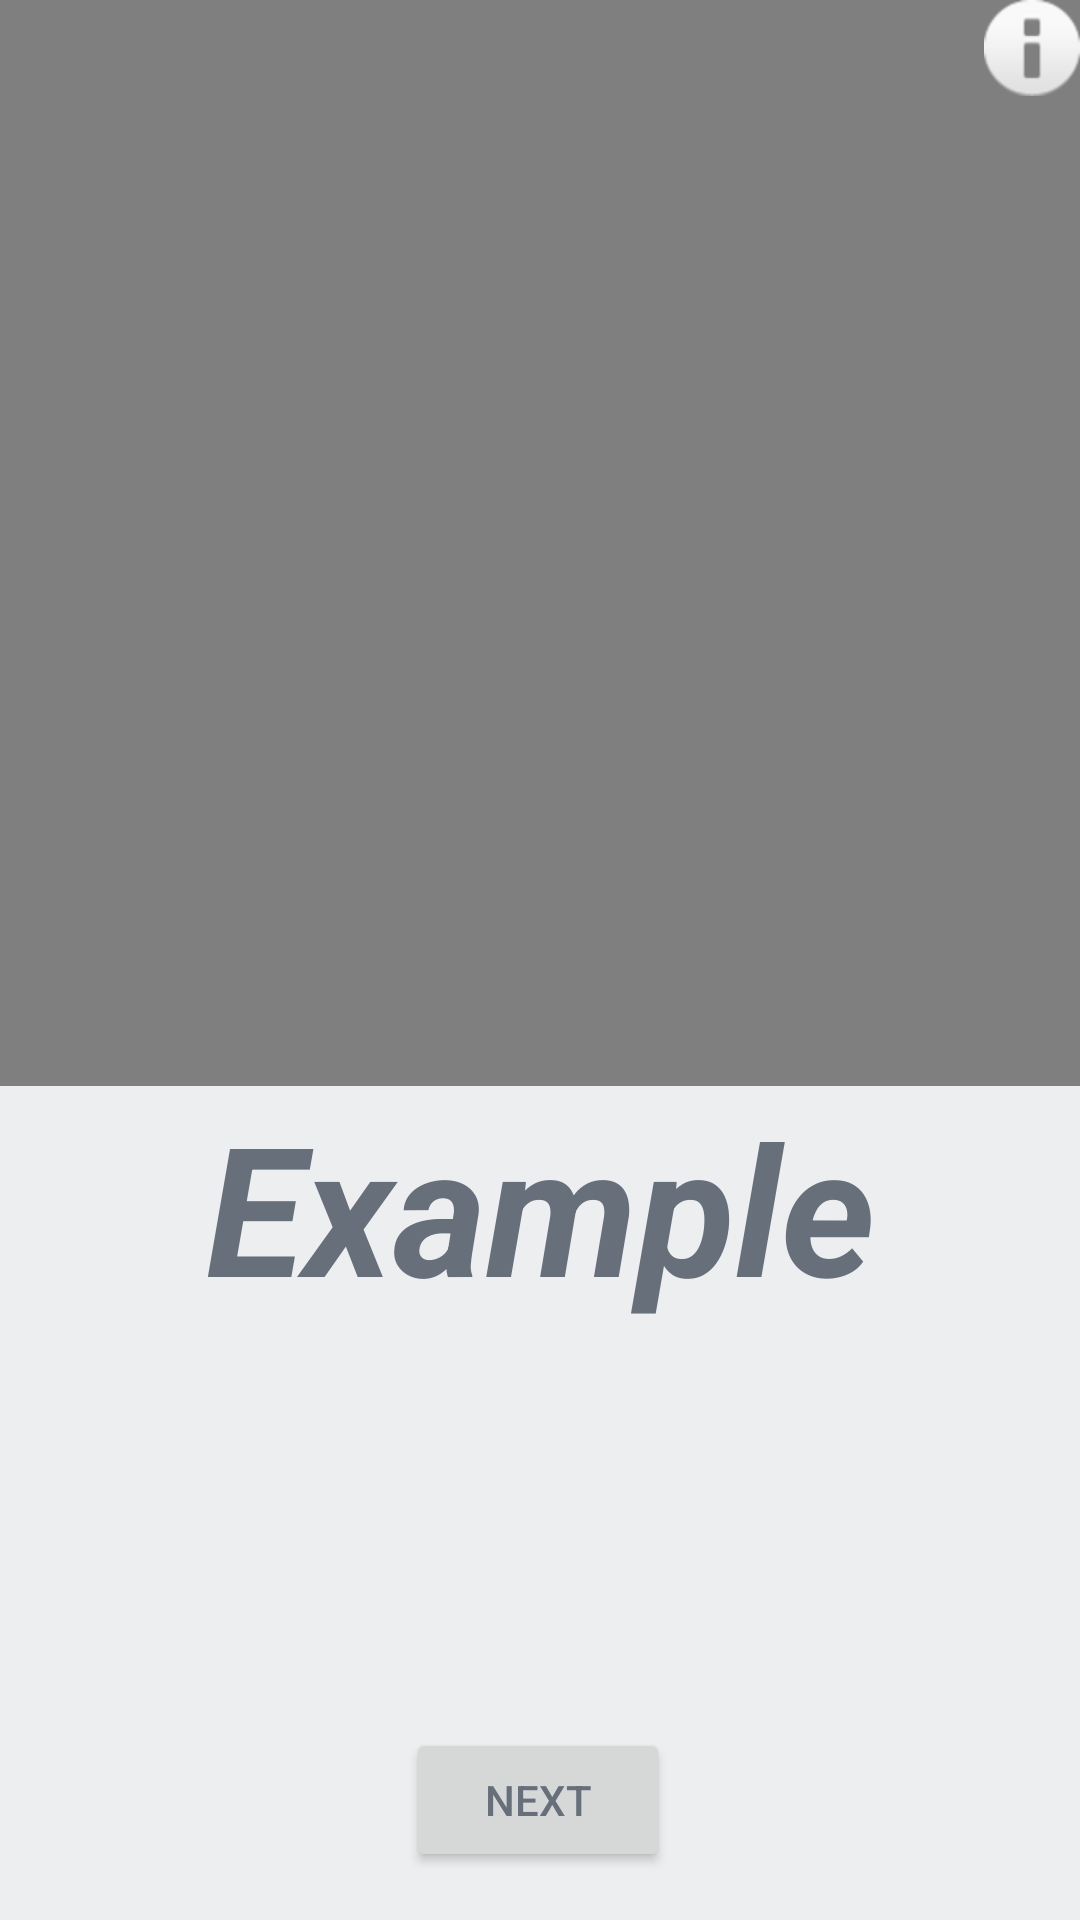

Icon bounding boxes for this 1080*1920 phone screenshot, format {"x1": x1, "y1": y1, "x2": x2, "y2": y2}:
About: {"x1": 984, "y1": 0, "x2": 1080, "y2": 96}
